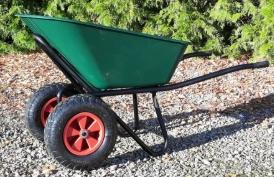BROUETTE: (9, 14, 268, 177)
